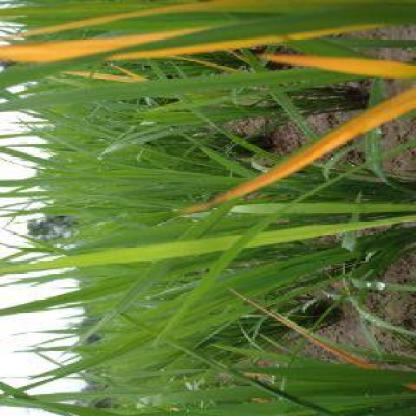Tungro: (195, 84, 416, 213), (1, 5, 388, 65), (266, 57, 416, 84)
